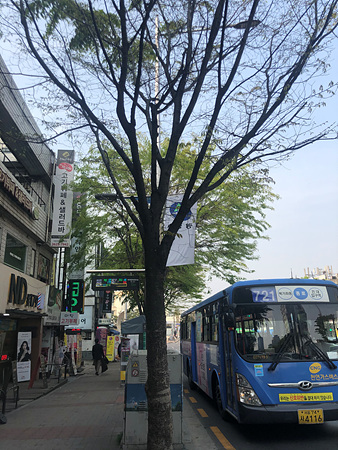bnum: (252, 287, 277, 301)
